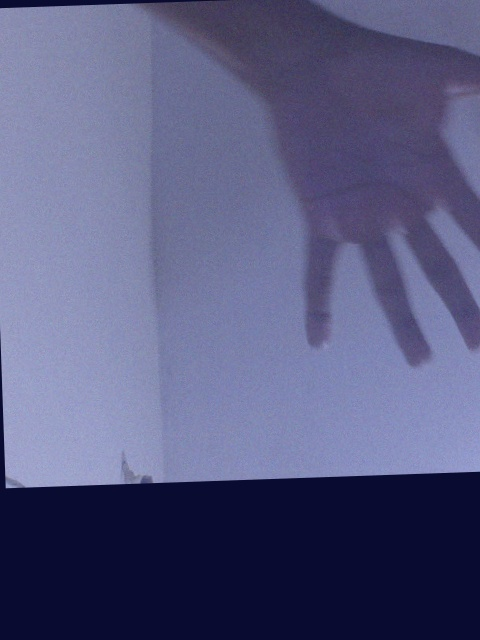hand: (216, 20, 480, 380)
